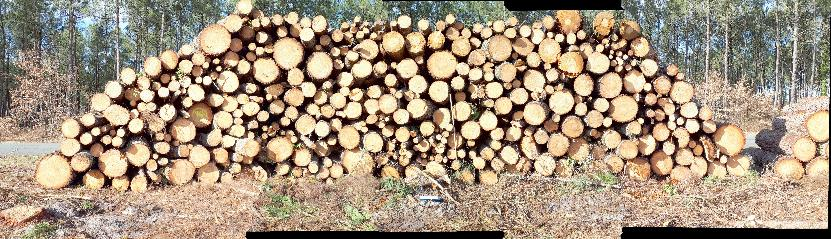object: (33, 151, 72, 186), (714, 121, 746, 155), (339, 146, 374, 177), (273, 37, 303, 68), (201, 23, 231, 53), (427, 50, 457, 78), (99, 150, 129, 177), (264, 136, 294, 162), (167, 158, 195, 184), (556, 51, 584, 77), (101, 102, 130, 127), (775, 153, 804, 178), (307, 51, 333, 78), (252, 57, 279, 83), (598, 71, 623, 99), (806, 107, 827, 140), (552, 9, 582, 32), (610, 95, 636, 120), (487, 35, 512, 61), (125, 141, 151, 165), (794, 133, 816, 161), (548, 89, 573, 113), (591, 10, 615, 35), (725, 152, 752, 174), (189, 103, 214, 126), (585, 50, 610, 73), (522, 102, 546, 125), (172, 117, 196, 140), (337, 125, 360, 149), (382, 29, 405, 53), (669, 80, 694, 102), (539, 38, 562, 61), (392, 56, 417, 77), (523, 68, 545, 91), (196, 161, 219, 183), (619, 18, 642, 40), (625, 68, 646, 92), (625, 158, 650, 178), (188, 144, 209, 167), (652, 150, 672, 174), (217, 71, 238, 93), (547, 132, 568, 154), (126, 172, 148, 193), (404, 32, 425, 54), (405, 99, 428, 119), (88, 90, 109, 111), (568, 138, 588, 160), (80, 169, 103, 188), (573, 74, 593, 95), (296, 113, 316, 134), (363, 131, 384, 151), (429, 80, 448, 102), (449, 101, 471, 120), (58, 137, 80, 156), (141, 55, 160, 77), (562, 117, 583, 136), (459, 119, 480, 138), (71, 151, 90, 172), (534, 156, 555, 175), (807, 157, 828, 176), (671, 125, 689, 147), (521, 135, 538, 158), (102, 78, 122, 97), (342, 99, 362, 118), (690, 156, 709, 176), (451, 36, 470, 56), (380, 93, 398, 114), (285, 87, 304, 106), (674, 147, 694, 165), (701, 136, 715, 161), (432, 107, 450, 126), (602, 129, 621, 147), (242, 137, 260, 156), (618, 139, 637, 157), (605, 155, 623, 174), (514, 36, 533, 54), (359, 39, 377, 58), (352, 59, 371, 77), (630, 38, 650, 55), (708, 160, 726, 178), (224, 14, 242, 32), (427, 30, 445, 48), (467, 47, 485, 65), (510, 86, 527, 105), (479, 112, 498, 129), (292, 146, 311, 163), (160, 50, 177, 69), (640, 58, 659, 75), (119, 66, 136, 84), (409, 75, 426, 93), (495, 97, 512, 115), (60, 117, 78, 134), (638, 135, 654, 154), (498, 63, 515, 80), (329, 91, 346, 108), (586, 110, 603, 127), (216, 111, 233, 128), (287, 67, 303, 85), (653, 78, 671, 94), (653, 122, 669, 140), (188, 84, 204, 101), (123, 87, 140, 103), (365, 97, 381, 114), (680, 101, 697, 117), (392, 107, 408, 124), (501, 145, 517, 162), (485, 81, 503, 96), (504, 125, 522, 140), (381, 164, 399, 179), (264, 84, 283, 98), (479, 169, 498, 183), (146, 117, 166, 130), (395, 126, 411, 142), (311, 15, 327, 31), (223, 50, 239, 66), (159, 104, 174, 121), (207, 128, 222, 145), (337, 71, 355, 85), (110, 177, 129, 190), (450, 75, 466, 90), (221, 95, 237, 110), (80, 111, 96, 126), (314, 120, 330, 135), (314, 141, 330, 156), (525, 51, 541, 66), (269, 100, 286, 114), (242, 102, 259, 116), (128, 118, 143, 133), (406, 164, 421, 179), (530, 28, 545, 43), (236, 0, 252, 14), (320, 103, 336, 117), (398, 14, 414, 28), (467, 66, 481, 81), (301, 82, 316, 96), (350, 85, 364, 100), (313, 89, 327, 104), (543, 117, 557, 132), (533, 128, 548, 142), (479, 146, 494, 160), (328, 163, 343, 177), (579, 42, 593, 57), (593, 97, 609, 110), (418, 120, 434, 133), (214, 146, 227, 162), (89, 142, 103, 156), (178, 59, 192, 73), (374, 60, 388, 74), (684, 119, 699, 132), (544, 68, 558, 81), (367, 84, 381, 97), (209, 93, 223, 106), (574, 102, 587, 116), (285, 106, 299, 119), (267, 122, 280, 136), (300, 28, 314, 41), (191, 51, 204, 65), (237, 60, 250, 74), (455, 61, 469, 74), (139, 89, 154, 101), (699, 105, 711, 120), (330, 117, 342, 132), (493, 18, 505, 33), (384, 73, 397, 86), (136, 75, 149, 88), (703, 119, 716, 132), (628, 120, 641, 133), (449, 133, 462, 146), (221, 134, 234, 147), (285, 10, 298, 23), (220, 170, 233, 183), (543, 14, 556, 27), (289, 24, 302, 37), (229, 37, 242, 50), (490, 125, 504, 137), (662, 140, 674, 154), (491, 158, 503, 172), (255, 167, 267, 181), (519, 24, 531, 38), (275, 162, 290, 173), (307, 103, 320, 115), (176, 143, 189, 155), (277, 24, 289, 37), (479, 25, 492, 37), (446, 26, 458, 39), (347, 50, 360, 62), (403, 88, 414, 102), (382, 125, 396, 136), (331, 28, 342, 42), (168, 80, 180, 92), (232, 124, 244, 136), (417, 138, 429, 150), (472, 155, 484, 167), (255, 31, 267, 43), (180, 43, 192, 55), (645, 93, 658, 104), (80, 131, 91, 144), (490, 139, 503, 150), (317, 166, 328, 179), (272, 12, 283, 25), (417, 18, 430, 29), (241, 24, 252, 37), (179, 75, 190, 87), (237, 92, 249, 103), (663, 103, 675, 114), (157, 140, 168, 152), (398, 154, 410, 165), (144, 157, 155, 169), (151, 172, 163, 183), (504, 27, 516, 38), (343, 30, 355, 41), (566, 32, 577, 44), (192, 65, 204, 76), (110, 136, 123, 146), (158, 86, 169, 97), (654, 109, 665, 120), (257, 109, 268, 120), (450, 158, 461, 169), (259, 15, 270, 26), (299, 17, 310, 28), (667, 64, 678, 75), (434, 21, 446, 31), (469, 37, 481, 47), (513, 110, 523, 121), (253, 8, 264, 18), (293, 165, 303, 176), (349, 22, 359, 33), (460, 27, 470, 38), (575, 29, 586, 39), (320, 33, 330, 44), (454, 90, 466, 99), (694, 142, 703, 154), (308, 161, 317, 173), (543, 85, 553, 95), (153, 130, 163, 140), (301, 167, 311, 177), (245, 83, 256, 92), (183, 96, 192, 107), (365, 113, 376, 122), (280, 116, 291, 125), (590, 128, 601, 137), (686, 139, 697, 148), (433, 143, 444, 152), (355, 28, 364, 39), (602, 36, 611, 47), (333, 59, 344, 68), (137, 102, 147, 111), (602, 116, 612, 125), (286, 128, 295, 138), (386, 140, 395, 150), (447, 147, 456, 157), (446, 13, 455, 23), (508, 16, 518, 25), (473, 23, 483, 32), (264, 43, 274, 52), (246, 50, 256, 59), (676, 72, 687, 80), (573, 95, 584, 103), (322, 157, 333, 165), (542, 61, 553, 69), (202, 75, 211, 84), (339, 85, 348, 94), (147, 102, 156, 111), (233, 108, 242, 117), (231, 163, 240, 172), (340, 19, 349, 28), (331, 47, 340, 56), (484, 72, 494, 80), (101, 135, 111, 143), (252, 18, 260, 28), (594, 43, 604, 51), (256, 46, 264, 56), (210, 71, 218, 80), (161, 73, 169, 82), (151, 82, 160, 90), (468, 85, 477, 93), (658, 97, 667, 105), (667, 119, 675, 128), (92, 126, 100, 135), (467, 138, 476, 146), (457, 149, 465, 158), (468, 150, 476, 159), (433, 154, 441, 163), (130, 109, 140, 116), (551, 113, 561, 120), (720, 153, 727, 163), (512, 78, 520, 86), (395, 90, 403, 98), (117, 128, 125, 136), (329, 136, 337, 144), (454, 21, 462, 29), (555, 33, 563, 41), (193, 75, 202, 82), (321, 80, 330, 87), (633, 93, 642, 100), (485, 99, 494, 106), (675, 117, 684, 124), (611, 32, 618, 41), (644, 82, 651, 90), (647, 108, 654, 116), (444, 123, 452, 130), (524, 127, 531, 135), (235, 153, 242, 161), (160, 158, 168, 165), (248, 42, 256, 49), (637, 116, 644, 123), (353, 14, 360, 21), (416, 55, 423, 62), (165, 132, 171, 140), (355, 120, 360, 129), (669, 113, 675, 120), (101, 125, 107, 132), (441, 129, 448, 135), (290, 135, 297, 141), (399, 140, 406, 146), (187, 143, 194, 149), (406, 150, 412, 157), (390, 18, 396, 25), (369, 31, 376, 37), (213, 58, 220, 64), (184, 111, 189, 119), (362, 20, 370, 25), (363, 27, 368, 35), (471, 93, 477, 99), (262, 124, 268, 130), (109, 129, 115, 135), (419, 151, 425, 157), (546, 30, 552, 36), (315, 44, 321, 50), (610, 59, 616, 65), (559, 73, 564, 80), (506, 83, 511, 90), (180, 87, 185, 94), (235, 118, 242, 123), (378, 122, 385, 127), (361, 125, 368, 130), (261, 133, 268, 138), (399, 147, 404, 154), (513, 51, 518, 58), (202, 60, 207, 67), (625, 63, 630, 70), (265, 94, 270, 100), (258, 96, 263, 102), (428, 136, 433, 142), (173, 139, 178, 145), (152, 152, 157, 158), (428, 154, 433, 160), (244, 16, 250, 21), (617, 50, 622, 56), (623, 54, 628, 60), (618, 59, 623, 65), (170, 75, 175, 80), (175, 89, 180, 94), (436, 133, 441, 138), (412, 137, 417, 142), (608, 53, 613, 58), (390, 88, 394, 94), (441, 156, 445, 162), (487, 19, 491, 25), (254, 97, 259, 101), (281, 129, 285, 134), (441, 138, 446, 142), (609, 49, 613, 54), (216, 66, 220, 71), (223, 93, 227, 97), (385, 117, 388, 120)
pile: (31, 28, 706, 189)
